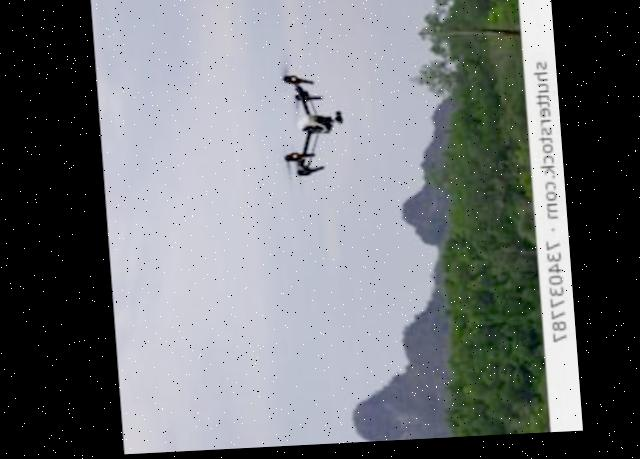drone: (254, 0, 383, 249)
